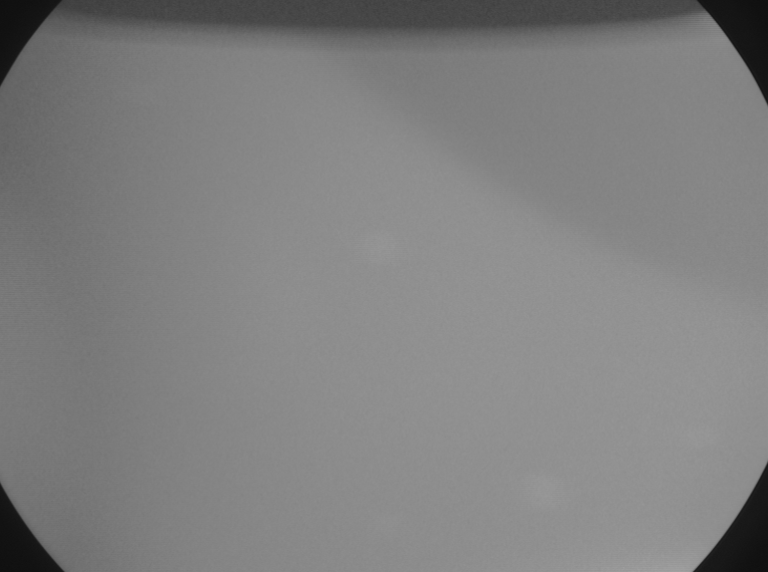defect: (525, 464, 569, 513)
